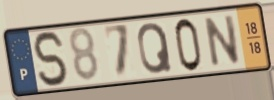0: (173, 16, 203, 74)
7: (101, 25, 132, 82)
8: (67, 26, 104, 86)
N: (203, 12, 242, 70)
Q: (136, 21, 175, 77)
S: (31, 29, 72, 90)
